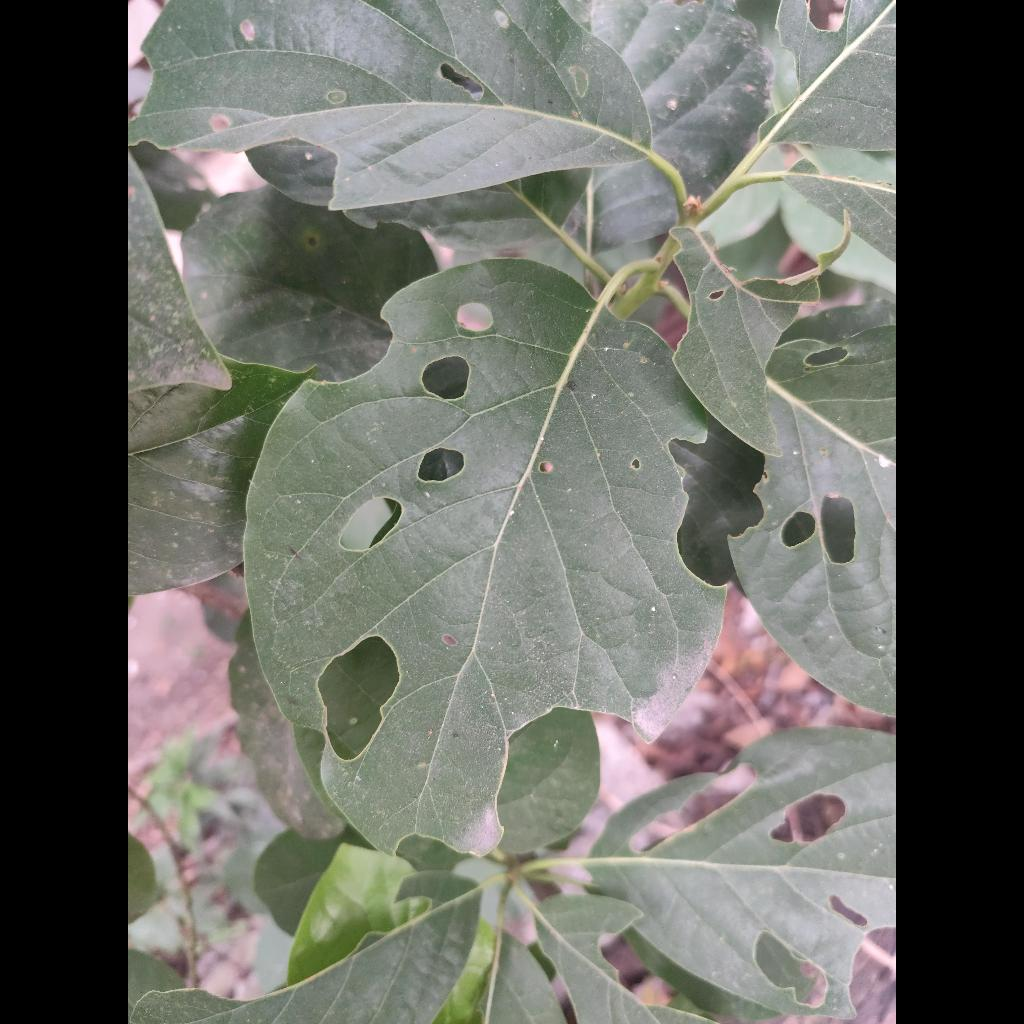plaga: (244, 259, 723, 853)
